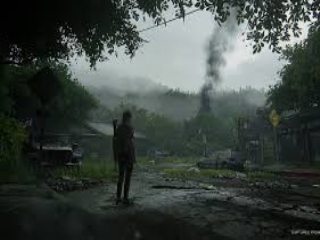smoke: (197, 17, 249, 128)
